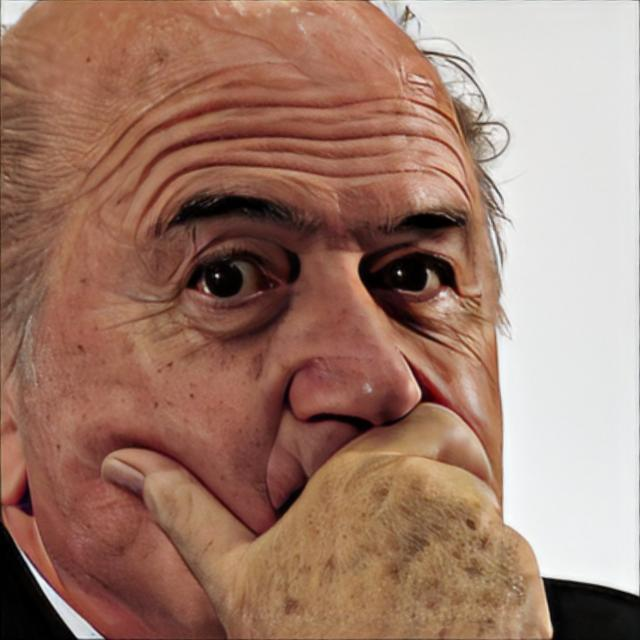surprise: (28, 0, 504, 640)
